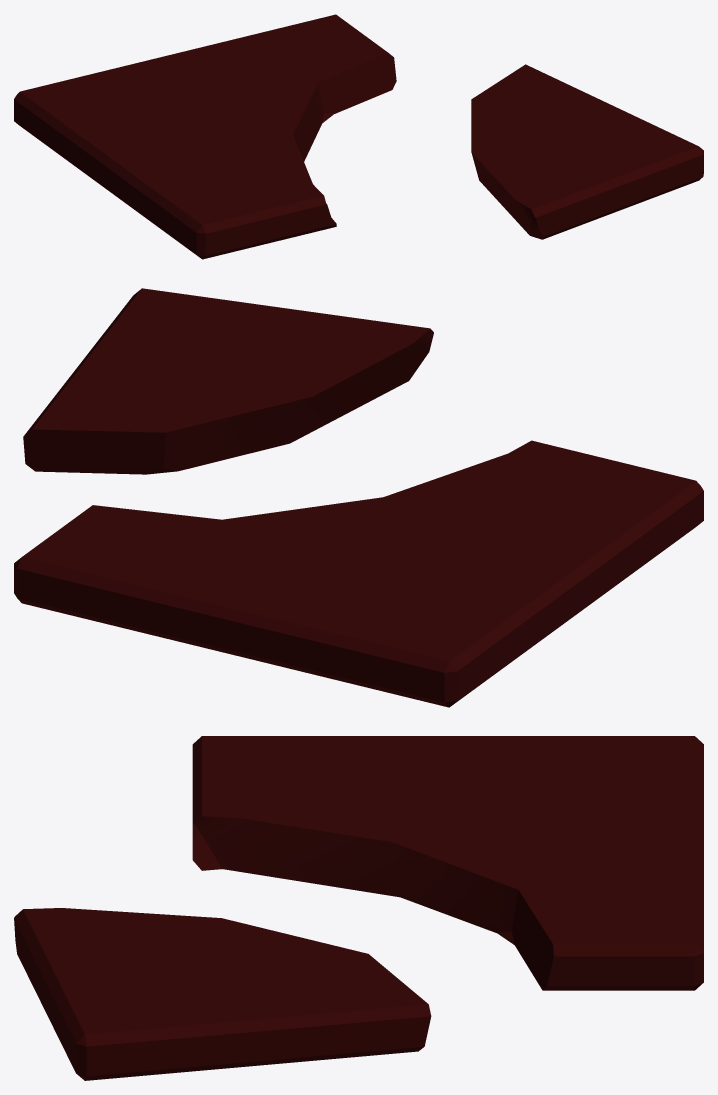
File: slab03.fbx
3 renders of one model, top to bottom at view 1: azimuth 30°, elevation 25°; view 2: azimuth 150°, elevation 25°; view 3: azimuth 270°, elevation 25°, orthographic. The views are drawn at different scales.
Parts seen in each view (by area): view 1: slab03a, slab03b; view 2: slab03a, slab03b; view 3: slab03a, slab03b.
Part boxes in pixels (x1,y1,x2,y2): slab03a: [14, 14, 396, 259]; slab03b: [471, 64, 703, 239]; slab03a: [14, 440, 703, 707]; slab03b: [23, 288, 433, 474]; slab03a: [192, 736, 703, 990]; slab03b: [14, 908, 431, 1080].
Bounding box in the file's own units: 28.35 × 2 × 27.
